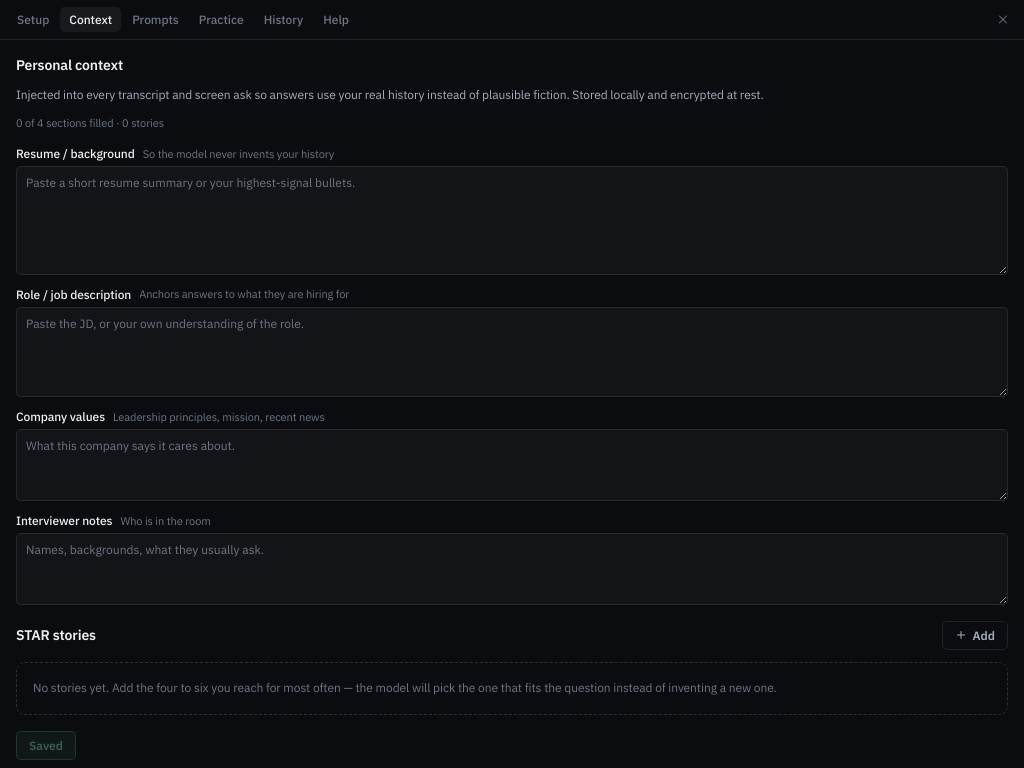
Test: Context tab › keeps Save disabled until the draft diverges from what is stored
Check: the button "Saved" is disabled, box [16,730,76,760]
In the text box with placeholder "Paste a short resume summary": (512, 220) [16,166,1008,275], type "new resume"
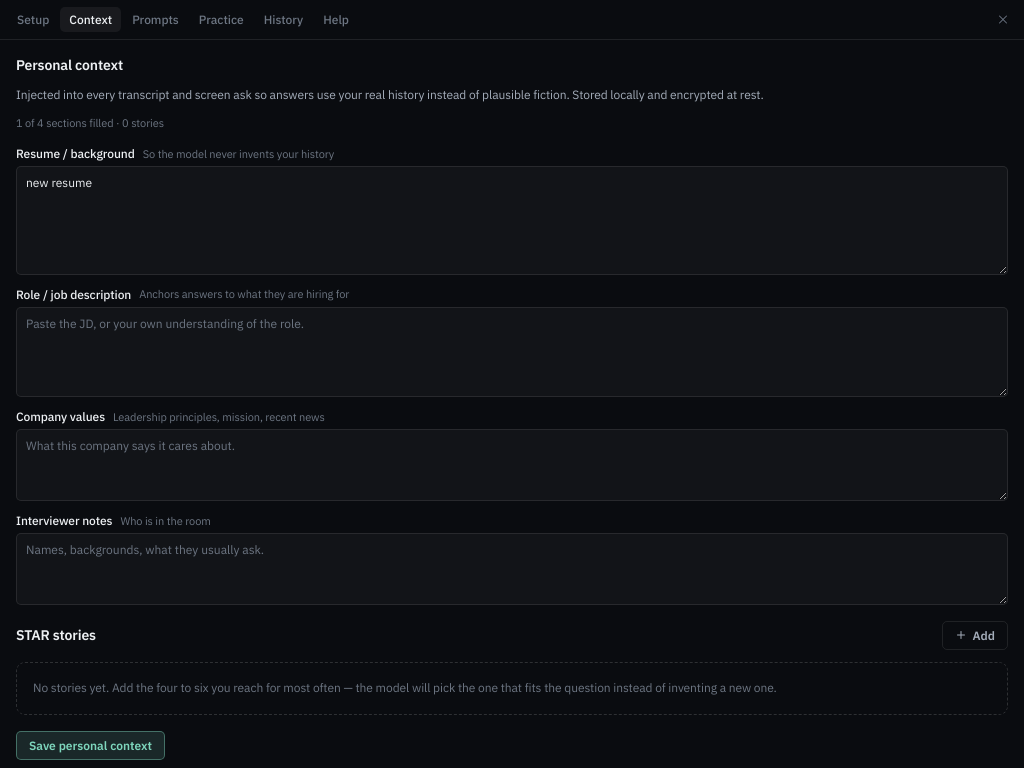
Check: the button "Save personal context" is enabled, box [16,730,165,760]
